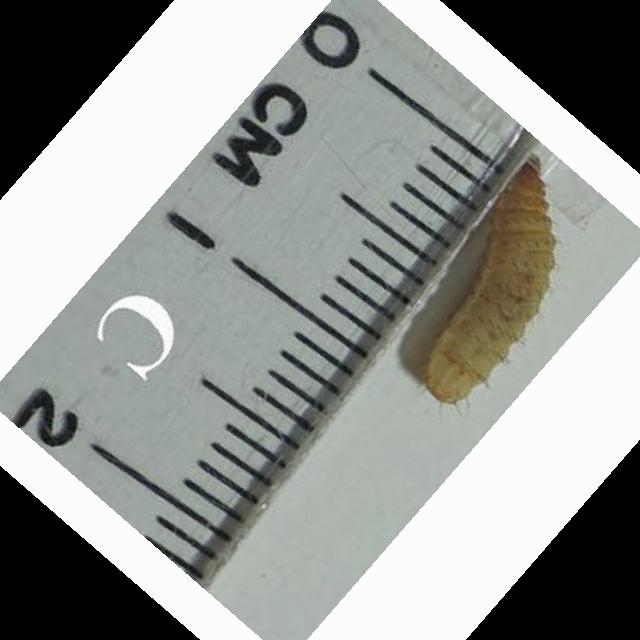Maggot: (420, 159, 552, 408)
